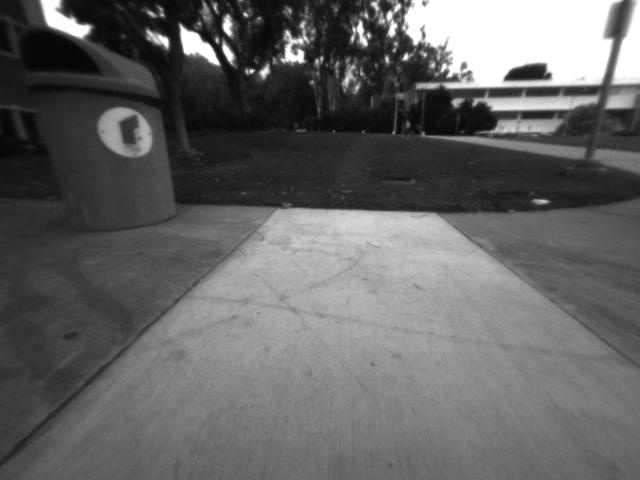trashcan: (17, 22, 182, 234)
